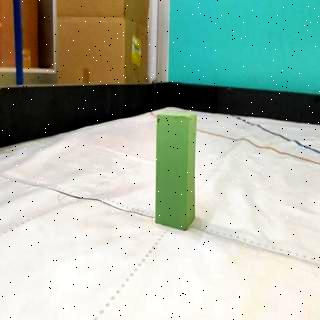greenbox: (154, 110, 198, 232)
